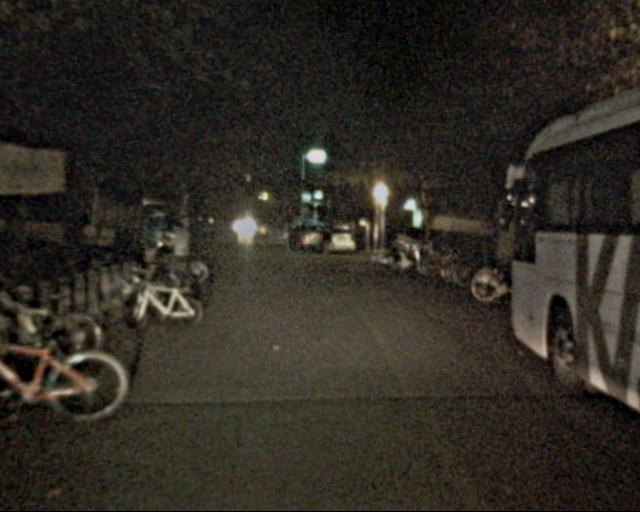person: (165, 223, 192, 288), (321, 227, 335, 261), (282, 222, 296, 255)
